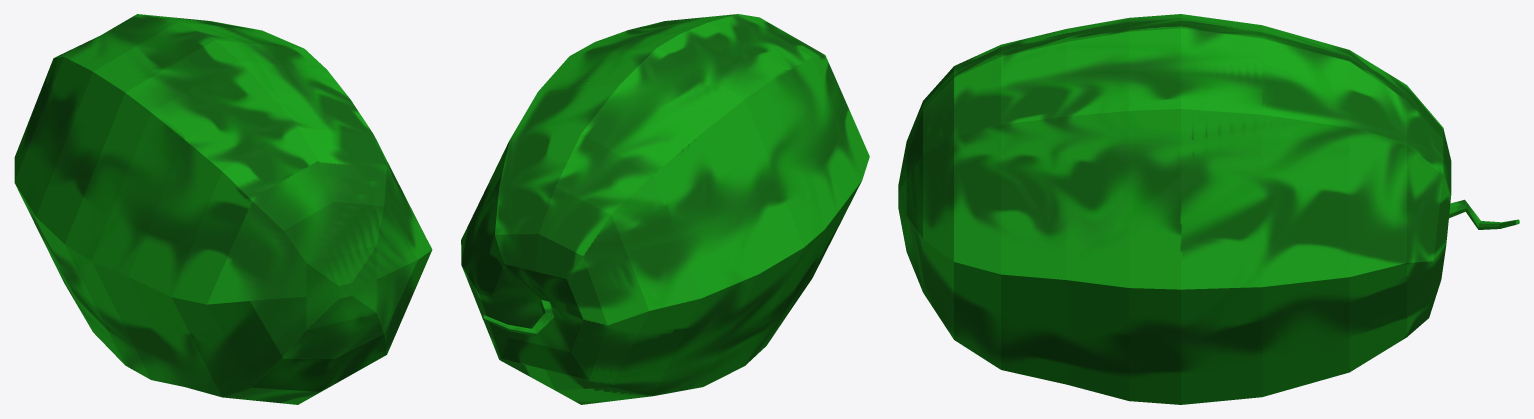
File: melancia.fbx
3 views of the same model, side by side, from view 1: azimuth 30°, elevation 25°; view 2: azimuth 150°, elevation 25°; view 3: azimuth 270°, elevation 25° (orthographic). The views are drawn at different scales.
Parts seen in each view (by area): view 1: Cube; view 2: Cube; view 3: Cube.
Boxes of the visible parts, x1,y1,x2,y2 form: Cube: (14, 14, 432, 404); Cube: (461, 14, 869, 404); Cube: (898, 14, 1519, 404).
Bounding box in the file's own units: 221 × 236 × 365.
